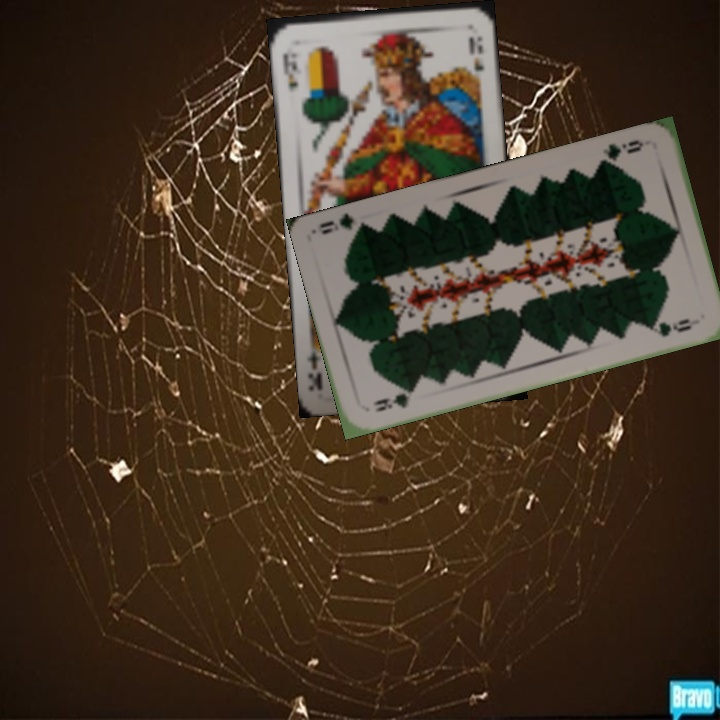EK: (278, 49, 301, 94)
G9: (596, 136, 647, 168), (369, 385, 418, 415)
